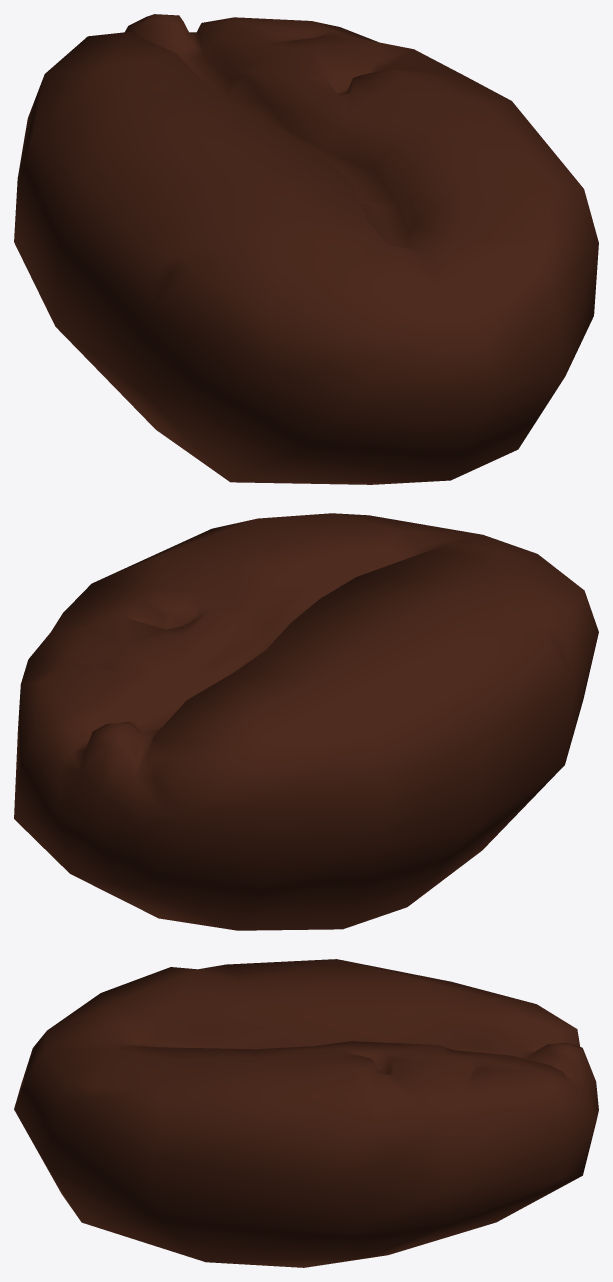
The model's file is coffee_bean_low-poly.glb.
The picture shows the model from 3 angles, top to bottom: view 1: azimuth 30°, elevation 25°; view 2: azimuth 150°, elevation 25°; view 3: azimuth 270°, elevation 25°; orthographic projection. The views are drawn at different scales.
Parts seen in each view (by area): view 1: Bean.1.LowPoly_0; view 2: Bean.1.LowPoly_0; view 3: Bean.1.LowPoly_0.
Part boxes in pixels (left/top/right/bottom): Bean.1.LowPoly_0: left=14, top=14, right=598, bottom=484; Bean.1.LowPoly_0: left=14, top=513, right=598, bottom=930; Bean.1.LowPoly_0: left=14, top=959, right=598, bottom=1267.
Bounding box in the file's own units: 0.6765 × 0.4459 × 1.
